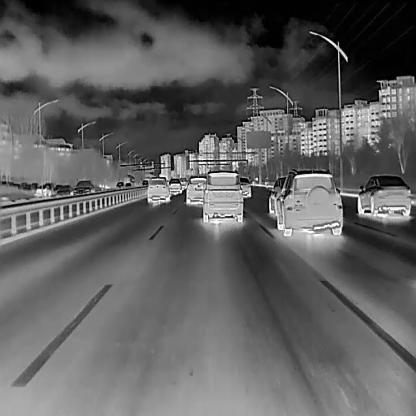car: (274, 168, 343, 236), (355, 173, 411, 218), (201, 169, 242, 223), (267, 174, 291, 214), (184, 174, 208, 204), (145, 175, 169, 203), (73, 178, 94, 197), (238, 176, 250, 198), (167, 176, 181, 194), (57, 182, 72, 196), (180, 176, 188, 188), (115, 180, 124, 188), (124, 180, 132, 188), (141, 178, 148, 187)
